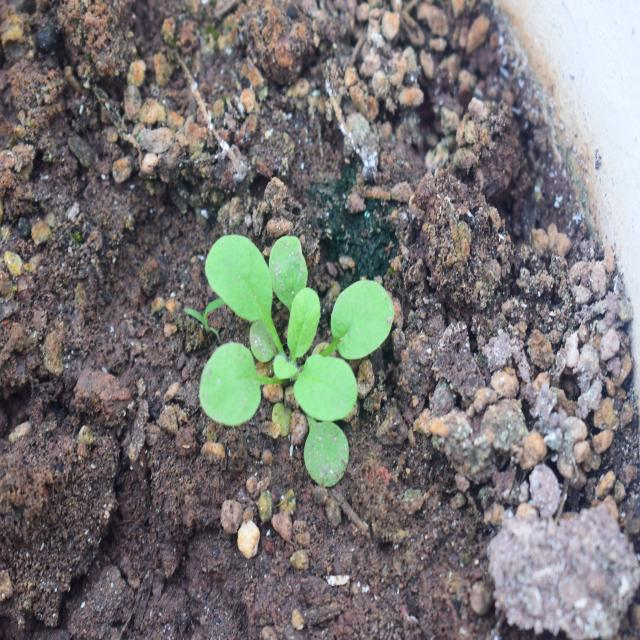Shepherd_Purse: (205, 231, 390, 469)
